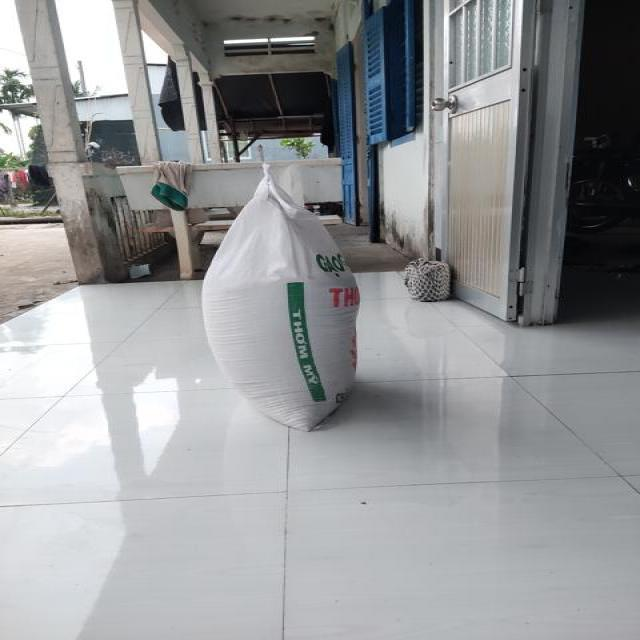gunny_bag: (201, 165, 360, 432)
